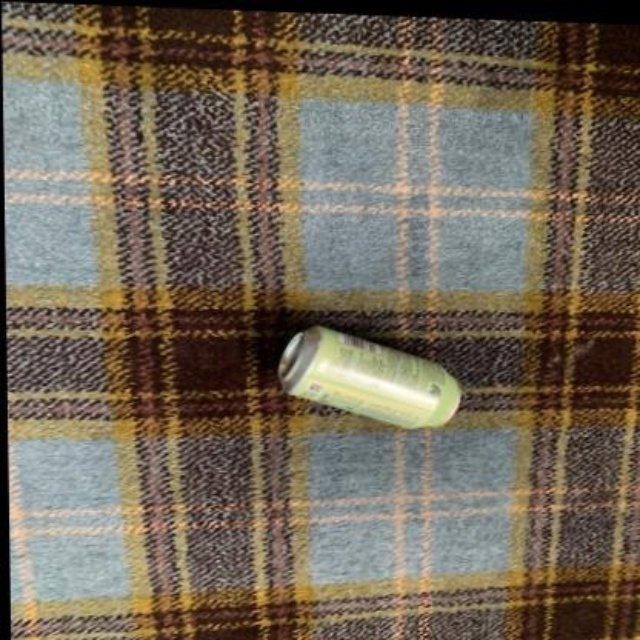trash: (278, 326, 460, 428)
